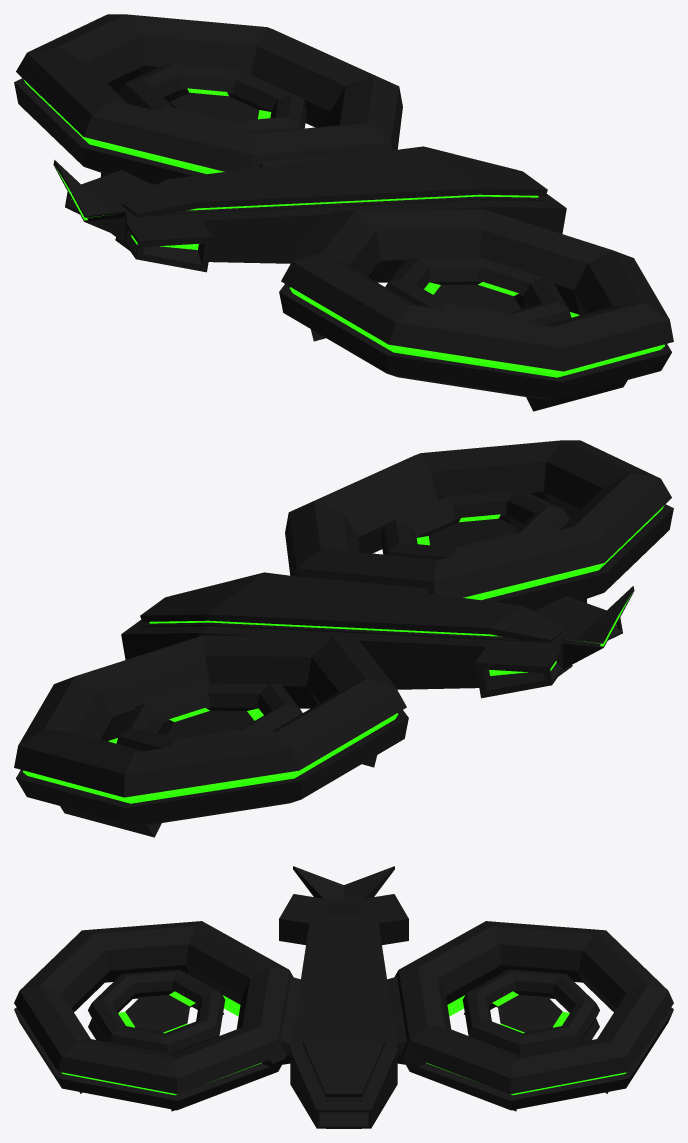
File: DroneMesh.glb
3 renders of one model, top to bottom at view 1: azimuth 30°, elevation 25°; view 2: azimuth 150°, elevation 25°; view 3: azimuth 270°, elevation 25°, orthographic. The views are drawn at different scales.
Parts seen in each view (by area): view 1: Cube; view 2: Cube; view 3: Cube.
Boxes of the visible parts, x1,y1,x2,y2 form: Cube: [14, 14, 673, 411]; Cube: [14, 440, 673, 837]; Cube: [14, 866, 673, 1128].
Bounding box in the file's own units: 709 × 231 × 1229.
